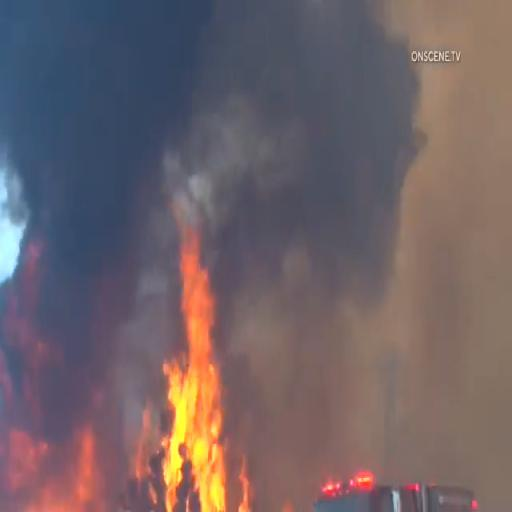fire: (151, 215, 247, 512)
smoke: (61, 100, 506, 215)
